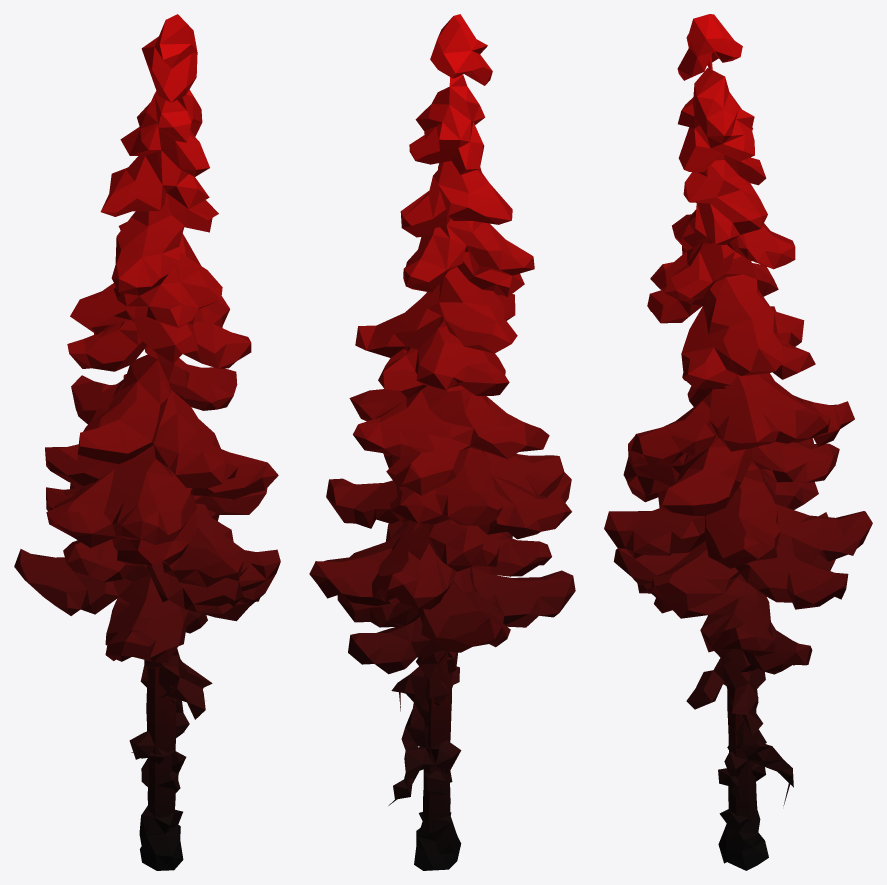
File: TreeSpruceTall02_Snow.fbx
The picture shows the model from 3 angles, left to right: view 1: azimuth 30°, elevation 25°; view 2: azimuth 150°, elevation 25°; view 3: azimuth 270°, elevation 25°; orthographic projection. The views are drawn at different scales.
Parts seen in each view (by area): view 1: TreeSpruceTall02_Snow_LOD0; view 2: TreeSpruceTall02_Snow_LOD0; view 3: TreeSpruceTall02_Snow_LOD0.
Part boxes in pixels (x1,y1,x2,y2): TreeSpruceTall02_Snow_LOD0: (14,14,280,870); TreeSpruceTall02_Snow_LOD0: (309,14,575,870); TreeSpruceTall02_Snow_LOD0: (604,14,872,870).
Size of what is drawn, in the model's own units: 315 by 1112 by 320.
